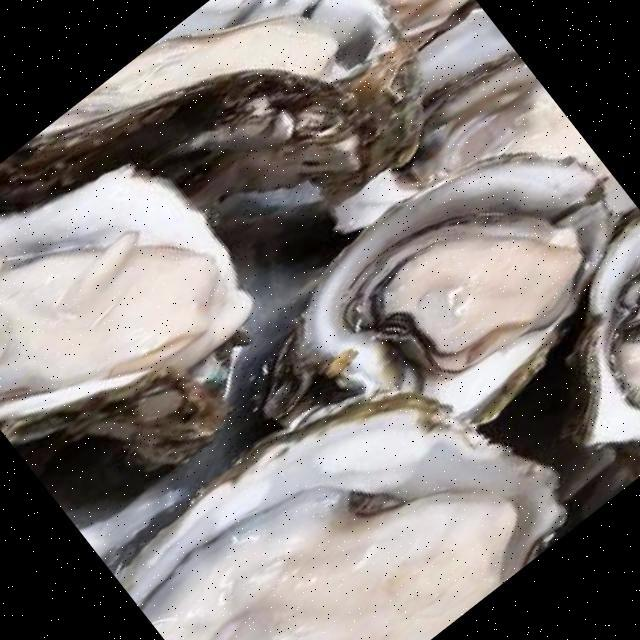Oyster-Open: (109, 392, 566, 640), (268, 153, 612, 430), (0, 165, 252, 469), (0, 20, 362, 206), (396, 50, 606, 190), (294, 0, 426, 202)
